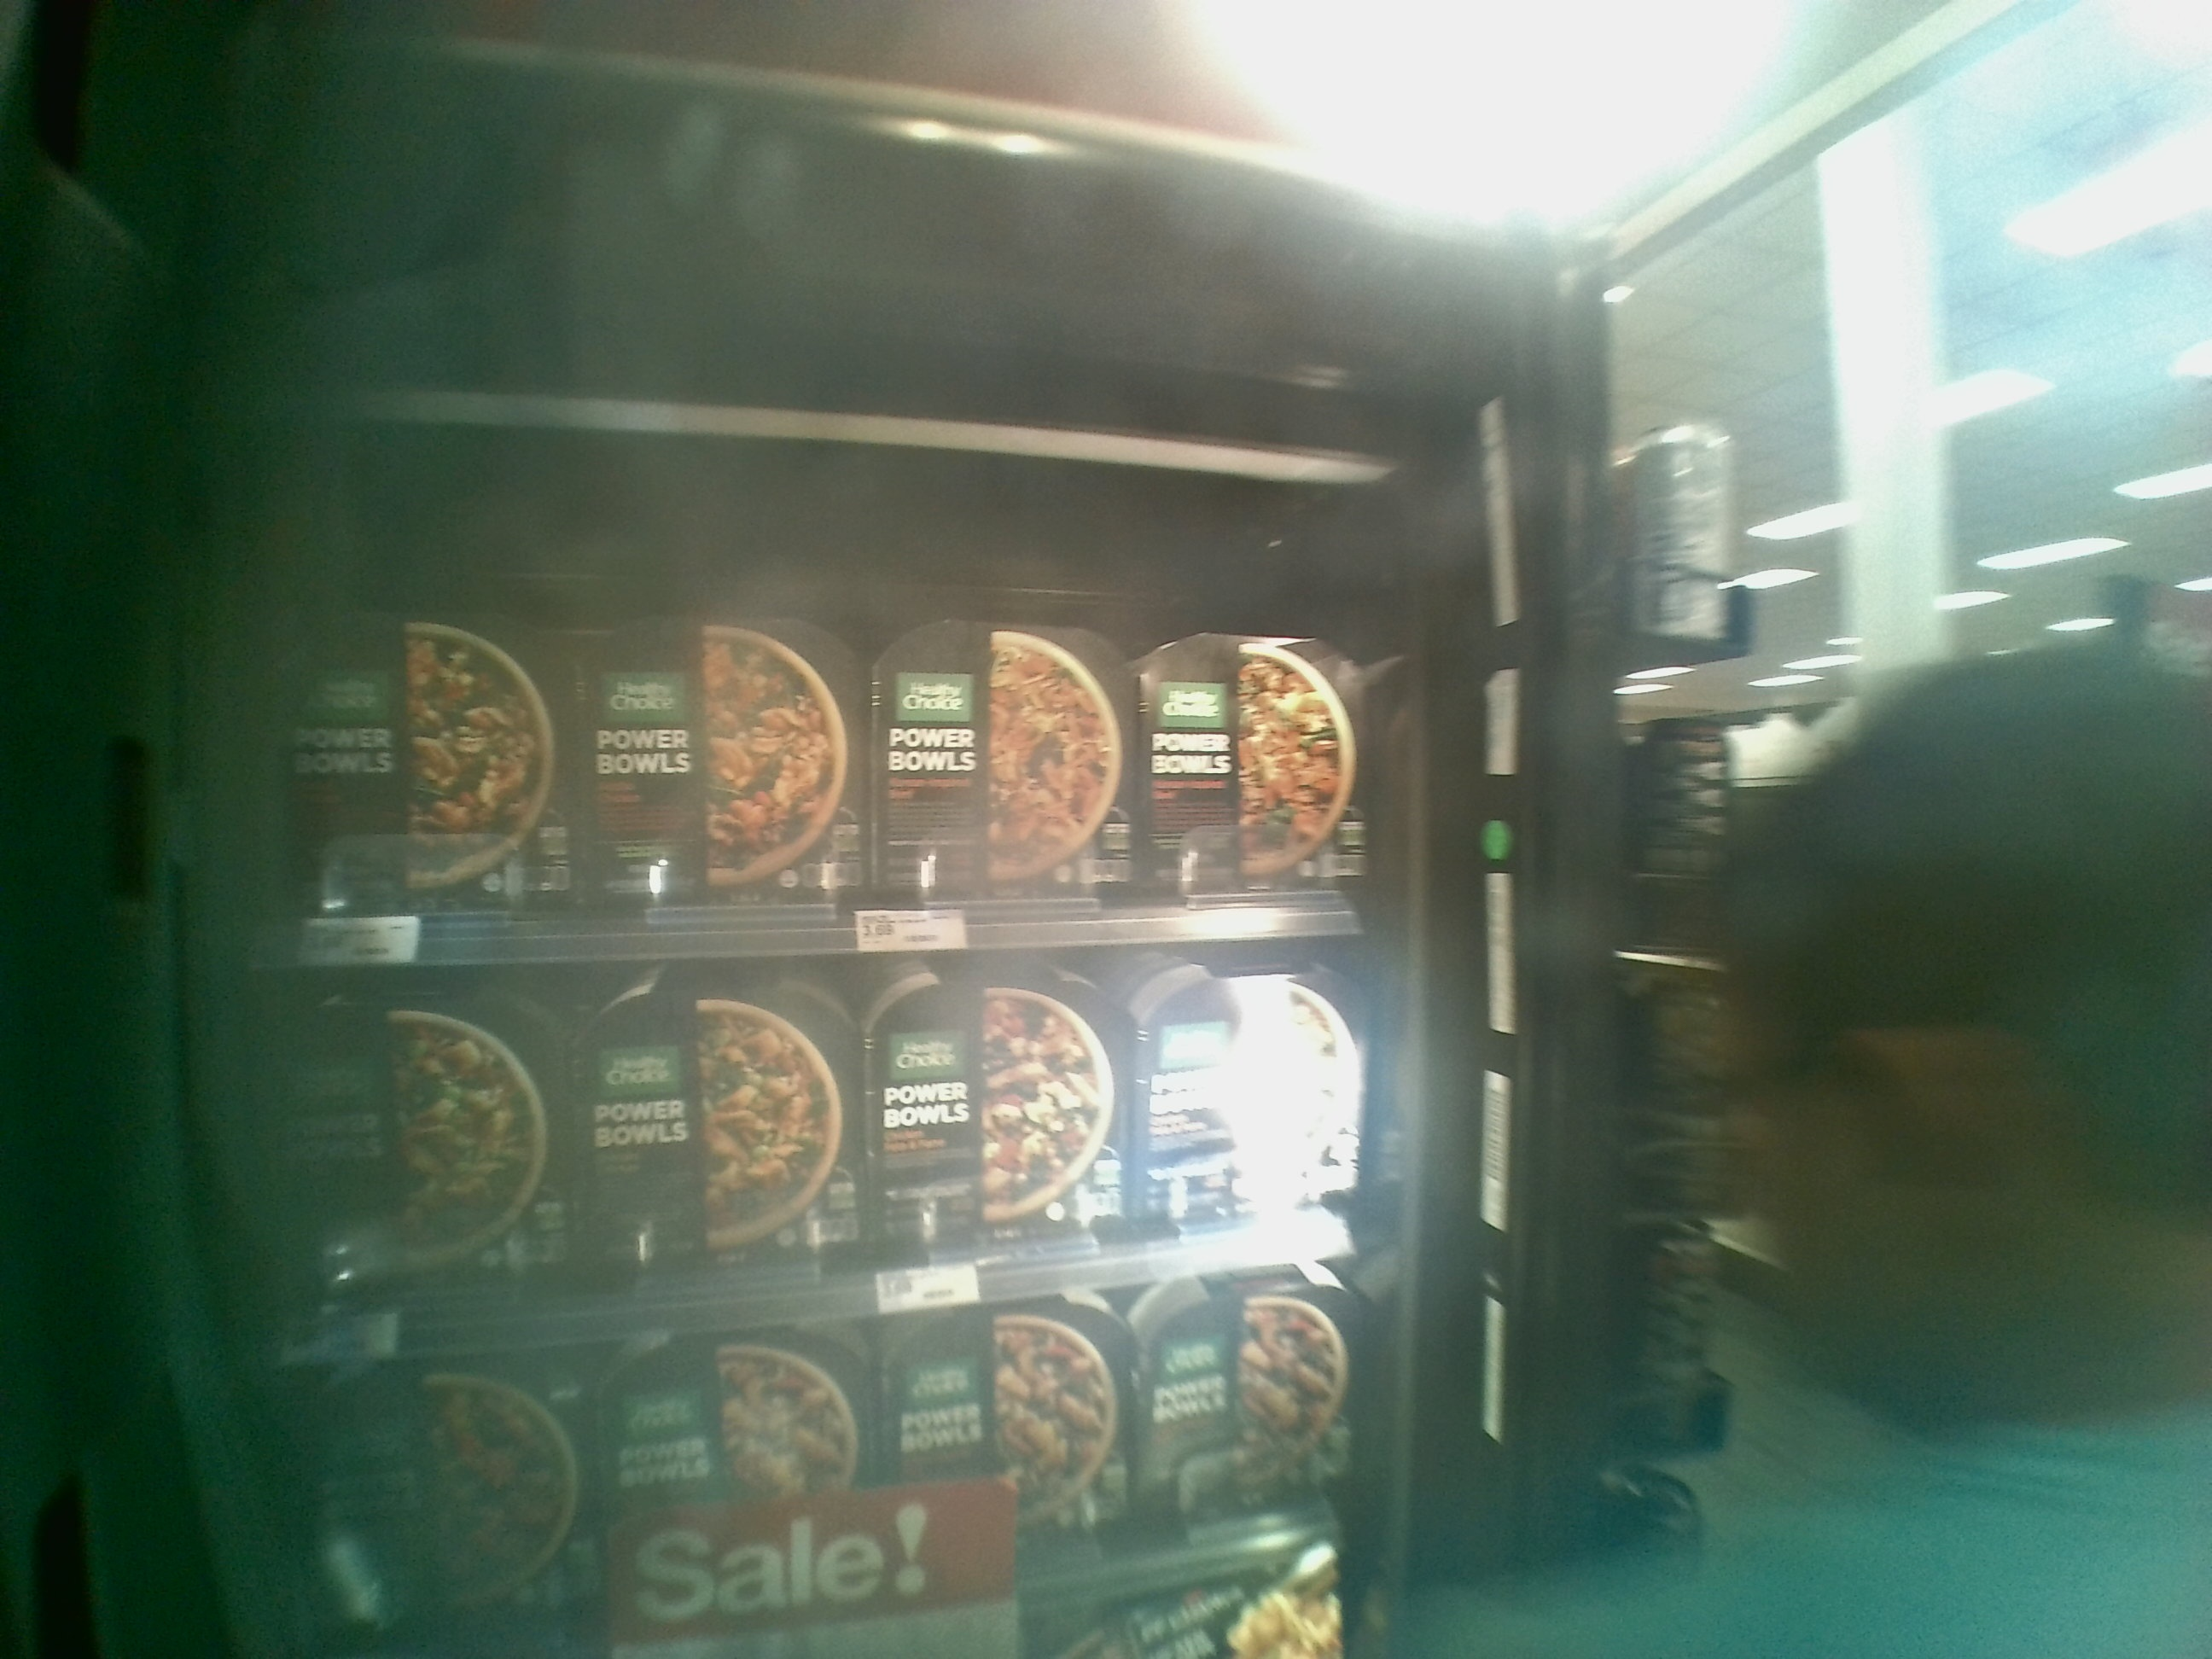shelf: (240, 396, 1379, 957), (253, 934, 1409, 1354)
